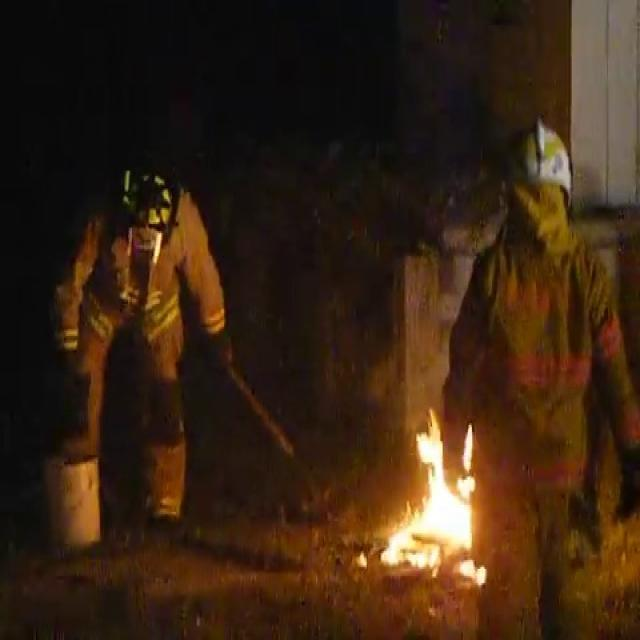Fire: (382, 398, 489, 582)
